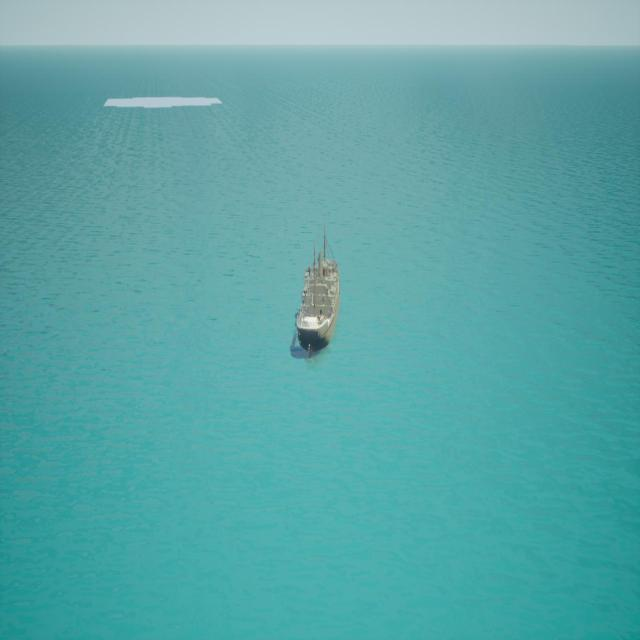fishing ship: (295, 226, 342, 354)
